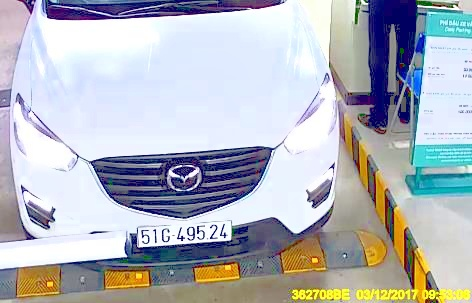plate: (135, 219, 234, 246)
